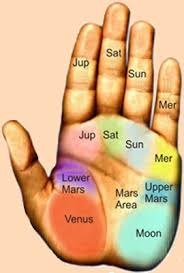palm: (60, 129, 177, 267)
